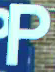Parking: (6, 2, 51, 71)
